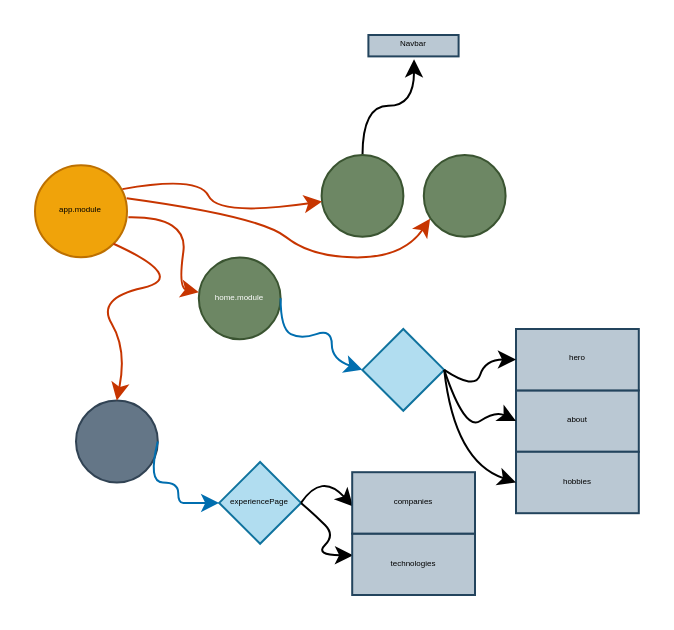
The diagram is 674 pixels wide and 630 high, and some of its shapes have lost their labels. Each missing label, with the centre of its shape:
experience.module: point 116,440
homePage: point 402,369
primeng.module: point 464,195
shared.module: point 361,195
